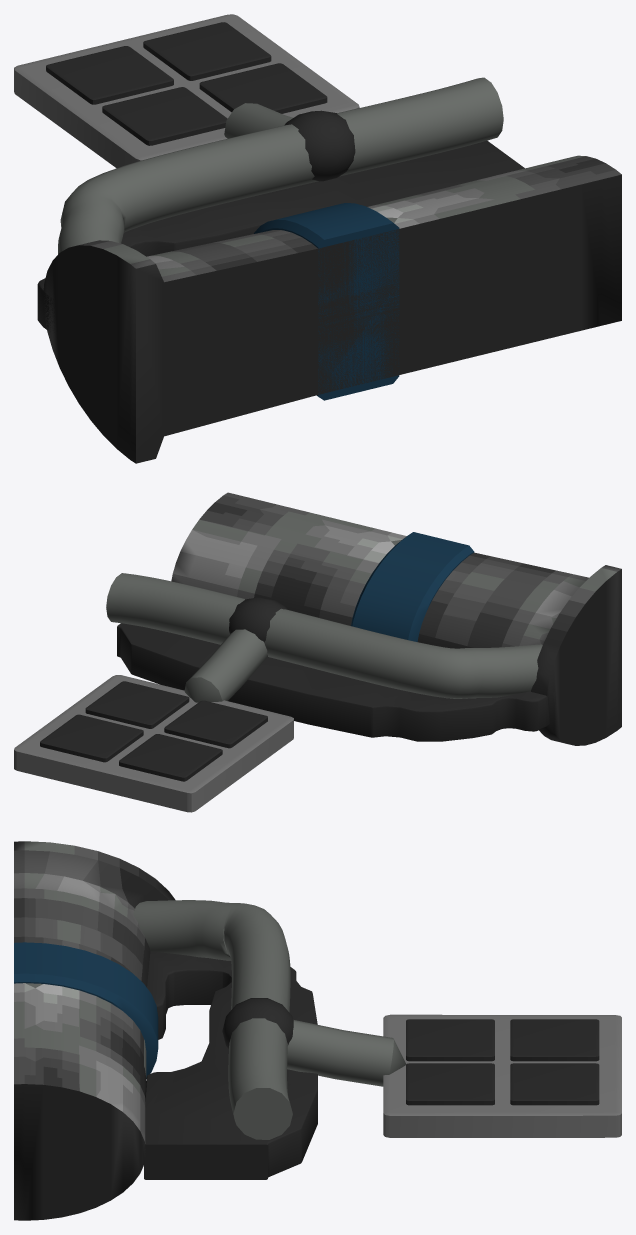
Rendered from station_l_tl.glb.
3 renders of one model, top to bottom at view 1: azimuth 30°, elevation 25°; view 2: azimuth 150°, elevation 25°; view 3: azimuth 270°, elevation 25°, orthographic. The views are drawn at different scales.
Visible parts, largest first — view 1: station_l_tl_axle, station_l_tl_strut, station_l_tl_web0, station_l_tl_blue_band, station_l_tl_panel_up_frame, station_l_tl_panel_up_cell2, station_l_tl_panel_up_cell3, station_l_tl_panel_up_cell0, station_l_tl_panel_up_cell1, station_l_tl_knuckle, station_l_tl_stem; view 2: station_l_tl_axle, station_l_tl_strut, station_l_tl_web0, station_l_tl_panel_up_frame, station_l_tl_blue_band, station_l_tl_stem, station_l_tl_panel_up_cell0, station_l_tl_panel_up_cell1, station_l_tl_panel_up_cell2, station_l_tl_panel_up_cell3, station_l_tl_knuckle; view 3: station_l_tl_axle, station_l_tl_web0, station_l_tl_strut, station_l_tl_panel_up_frame, station_l_tl_blue_band, station_l_tl_stem, station_l_tl_panel_up_cell2, station_l_tl_panel_up_cell3, station_l_tl_panel_up_cell0, station_l_tl_panel_up_cell1, station_l_tl_knuckle.
Part boxes in pixels (x1,y1,x2,y2): station_l_tl_axle: [43, 155, 621, 463]; station_l_tl_strut: [58, 77, 503, 254]; station_l_tl_web0: [37, 140, 524, 332]; station_l_tl_blue_band: [254, 203, 399, 400]; station_l_tl_panel_up_frame: [14, 14, 359, 168]; station_l_tl_panel_up_cell2: [143, 22, 271, 80]; station_l_tl_panel_up_cell3: [46, 46, 173, 104]; station_l_tl_panel_up_cell0: [102, 87, 227, 145]; station_l_tl_panel_up_cell1: [199, 63, 327, 113]; station_l_tl_knuckle: [284, 110, 355, 181]; station_l_tl_stem: [224, 103, 292, 138]; station_l_tl_axle: [171, 492, 621, 745]; station_l_tl_strut: [106, 573, 542, 698]; station_l_tl_web0: [117, 623, 555, 741]; station_l_tl_panel_up_frame: [14, 675, 293, 812]; station_l_tl_blue_band: [351, 532, 474, 641]; station_l_tl_stem: [184, 629, 267, 702]; station_l_tl_panel_up_cell0: [164, 700, 267, 748]; station_l_tl_panel_up_cell1: [85, 681, 189, 728]; station_l_tl_panel_up_cell2: [40, 714, 143, 762]; station_l_tl_panel_up_cell3: [119, 734, 222, 781]; station_l_tl_knuckle: [229, 597, 287, 642]; station_l_tl_axle: [14, 841, 175, 1220]; station_l_tl_web0: [144, 951, 317, 1179]; station_l_tl_strut: [133, 900, 292, 1139]; station_l_tl_panel_up_frame: [383, 1014, 621, 1137]; station_l_tl_blue_band: [14, 942, 158, 1078]; station_l_tl_stem: [287, 1020, 406, 1086]; station_l_tl_panel_up_cell2: [510, 1063, 599, 1105]; station_l_tl_panel_up_cell3: [510, 1019, 599, 1061]; station_l_tl_panel_up_cell0: [406, 1019, 494, 1061]; station_l_tl_panel_up_cell1: [406, 1063, 494, 1105]; station_l_tl_knuckle: [222, 998, 293, 1048].
Bounding box in the file's own units: 23.98 × 9.24 × 27.98.
